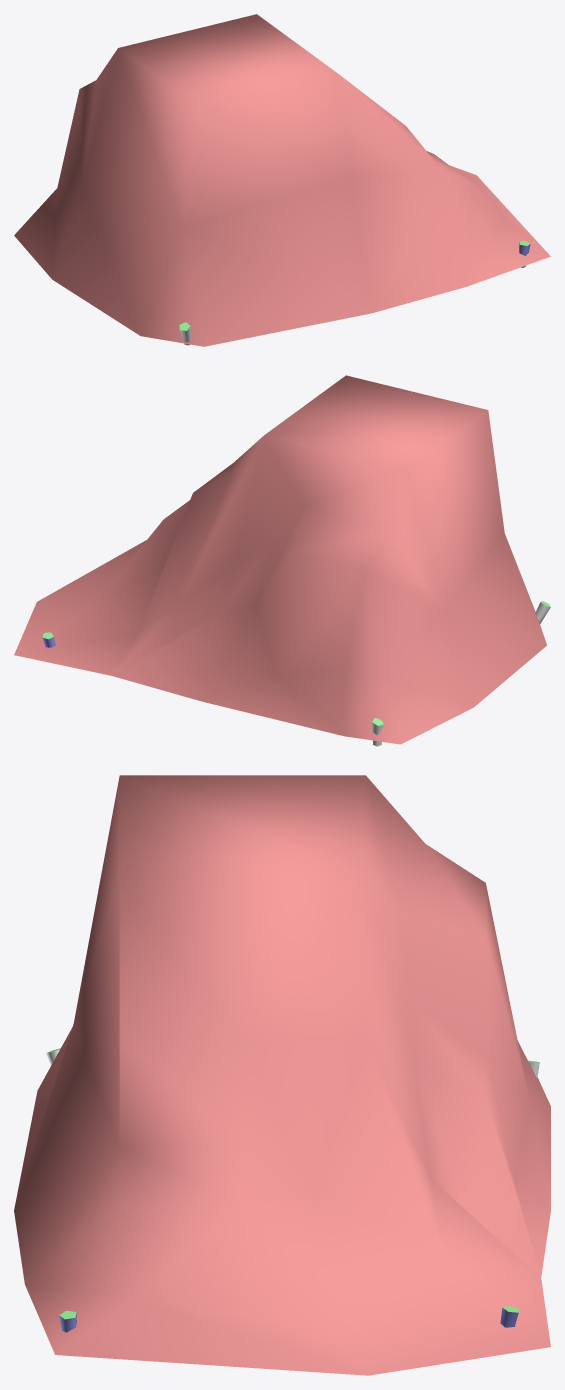
Rendered from PriMT_port_Box_set.gltf.
3 views of the same model, one above another, from view 1: azimuth 30°, elevation 25°; view 2: azimuth 150°, elevation 25°; view 3: azimuth 270°, elevation 25° (orthographic). The views are drawn at different scales.
Visible parts, largest first — view 1: PriMT_port_Box_set; view 2: PriMT_port_Box_set; view 3: PriMT_port_Box_set.
Part boxes in pixels (x1,y1,x2,y2): PriMT_port_Box_set: [14, 14, 550, 346]; PriMT_port_Box_set: [14, 375, 550, 746]; PriMT_port_Box_set: [14, 775, 550, 1375].
Size of the model in its own units: 1.56 by 0.7849 by 1.11.
